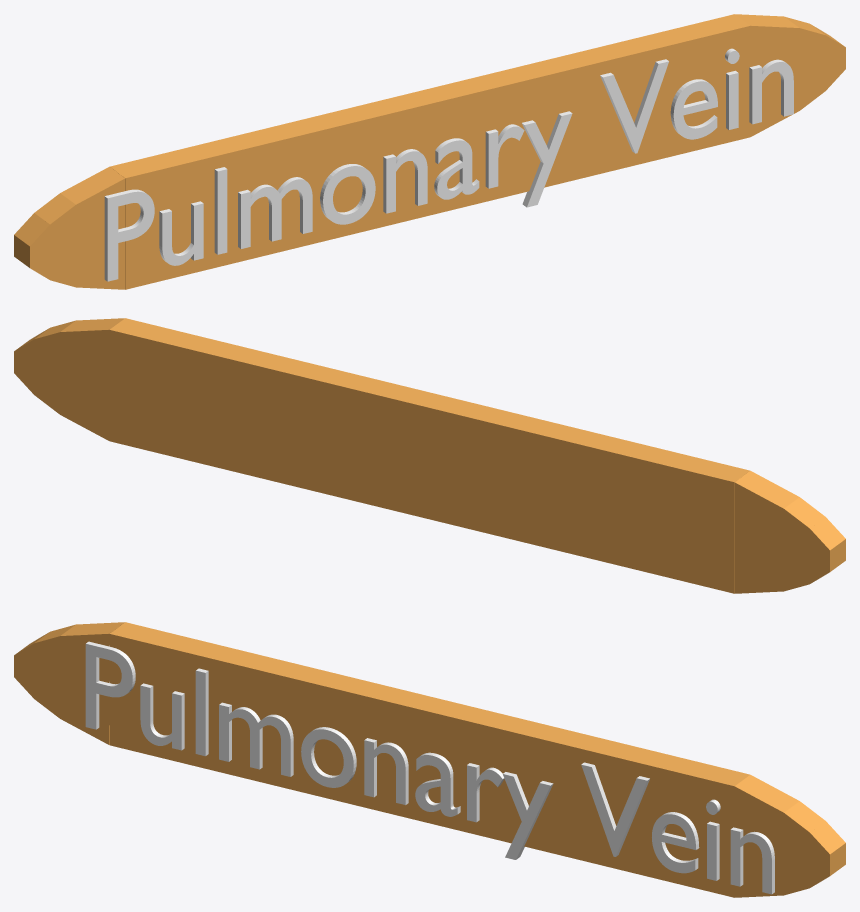
File: txtPulmonaryVein.fbx
3 renders of one model, top to bottom at view 1: azimuth 30°, elevation 25°; view 2: azimuth 150°, elevation 25°; view 3: azimuth 330°, elevation 25°, orthographic.
Parts seen in each view (by area): view 1: TagContainer.041, Text.042; view 2: TagContainer.041; view 3: TagContainer.041, Text.042.
Boxes of the visible parts, x1,y1,x2,y2 form: TagContainer.041: [14, 14, 845, 289]; Text.042: [104, 48, 793, 281]; TagContainer.041: [14, 318, 845, 593]; TagContainer.041: [14, 622, 845, 897]; Text.042: [85, 641, 774, 894].
Size of the model in its own units: 316 by 46.03 by 12.69.
